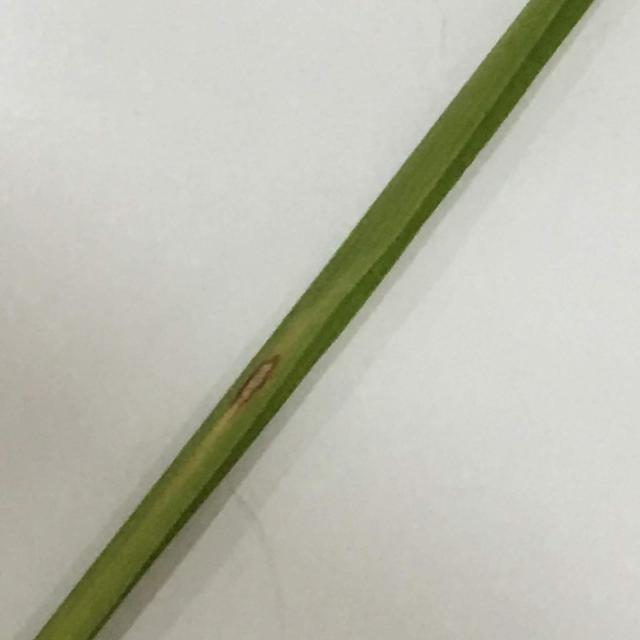Leaf blast: (26, 1, 640, 640)
